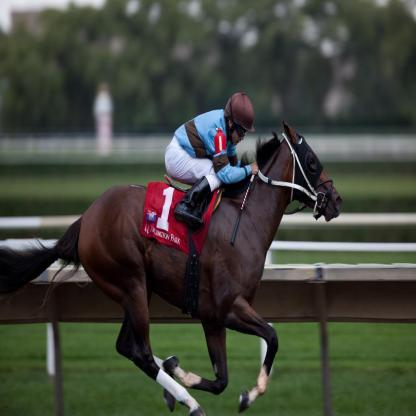Helmet: (223, 92, 256, 143)
